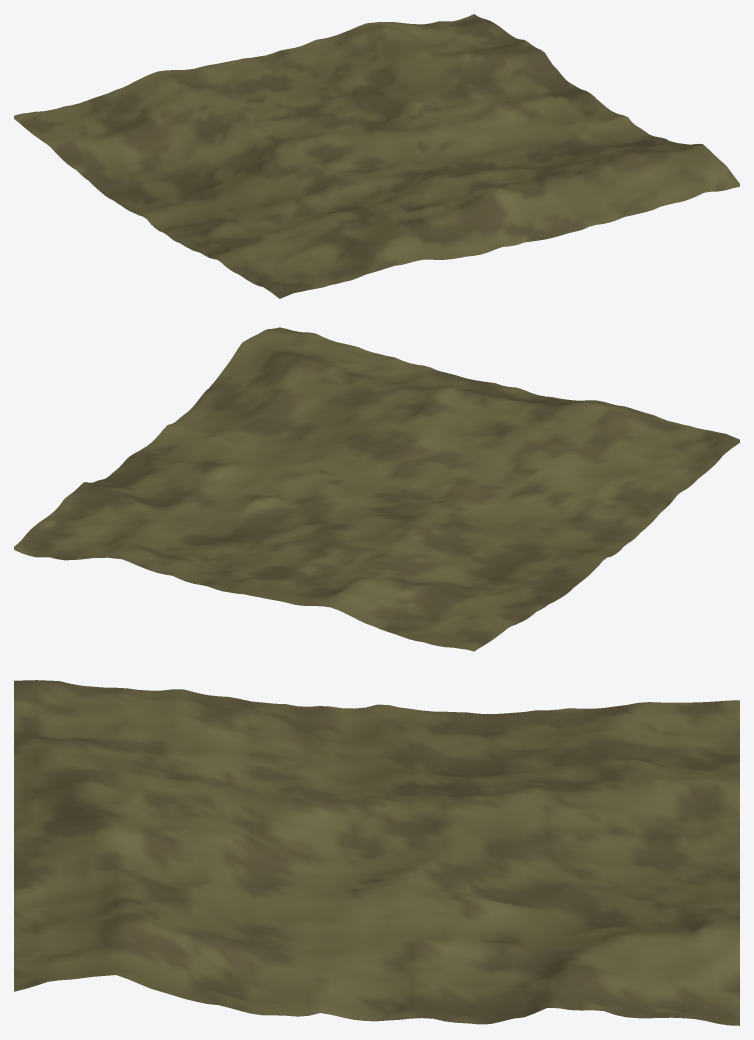
File: land_f_02_08.glb
3 views of the same model, one above another, from view 1: azimuth 30°, elevation 25°; view 2: azimuth 150°, elevation 25°; view 3: azimuth 270°, elevation 25° (orthographic). The views are drawn at different scales.
Parts seen in each view (by area): view 1: land_f_02_08; view 2: land_f_02_08; view 3: land_f_02_08.
Part boxes in pixels (x1,y1,x2,y2): land_f_02_08: [14, 14, 739, 298]; land_f_02_08: [14, 327, 739, 651]; land_f_02_08: [14, 680, 739, 1025].
Bounding box in the file's own units: 3840 × 362 × 3840.
